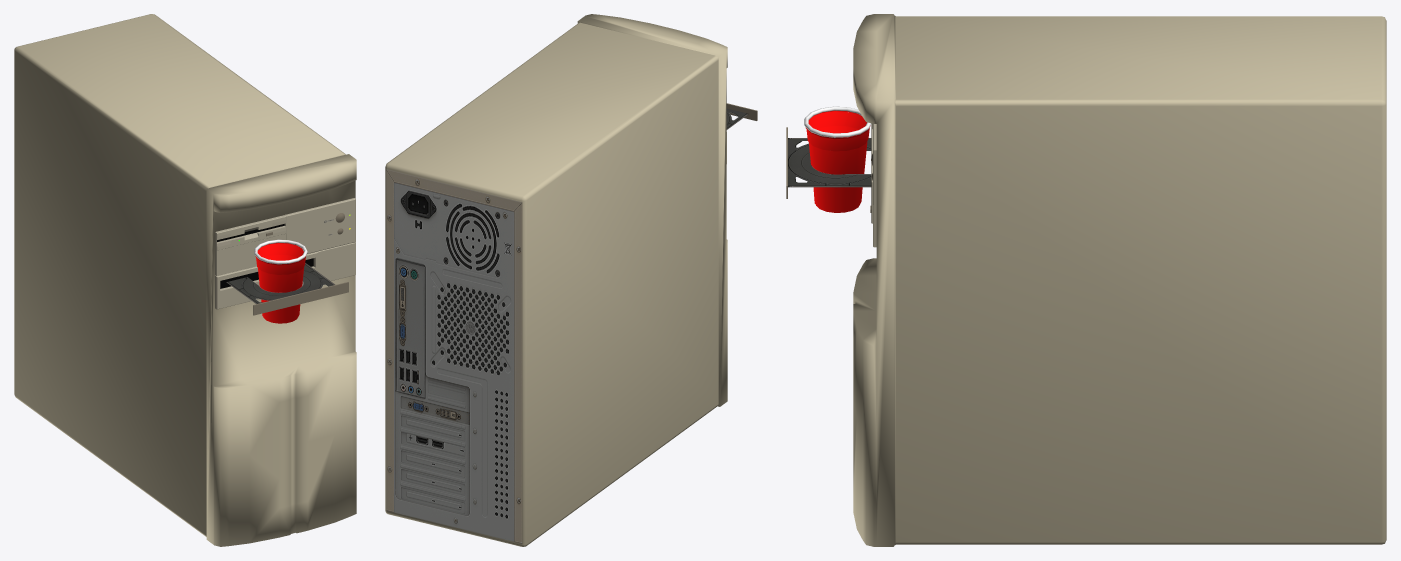
File: RetroPCTower.glb
3 views of the same model, side by side, from view 1: azimuth 30°, elevation 25°; view 2: azimuth 150°, elevation 25°; view 3: azimuth 270°, elevation 25° (orthographic). The views are drawn at different scales.
Parts seen in each view (by area): view 1: TowerFront, Solocup, PowerOptions, DiskTray, FloppyDrive, PowerOptions.001, PowerOptions.002, DiskDriveTrayFront, DiskDrive; view 2: TowerFront, pcback; view 3: TowerFront, Solocup, DiskTray.
Boxes of the visible parts, x1,y1,x2,y2 form: TowerFront: [14, 14, 356, 546]; Solocup: [254, 239, 307, 323]; PowerOptions: [285, 198, 355, 253]; DiskTray: [226, 263, 335, 304]; FloppyDrive: [215, 215, 286, 250]; PowerOptions.001: [215, 234, 285, 275]; PowerOptions.002: [318, 242, 355, 280]; DiskDriveTrayFront: [253, 282, 348, 315]; DiskDrive: [215, 251, 318, 309]; TowerFront: [385, 14, 727, 546]; pcback: [386, 169, 522, 543]; TowerFront: [853, 14, 1386, 546]; Solocup: [804, 106, 871, 212]; DiskTray: [788, 138, 871, 187].
Size of the model in its own units: 1.02 by 2.42 by 2.95.
Materials: 12 (4 with a texture image).
